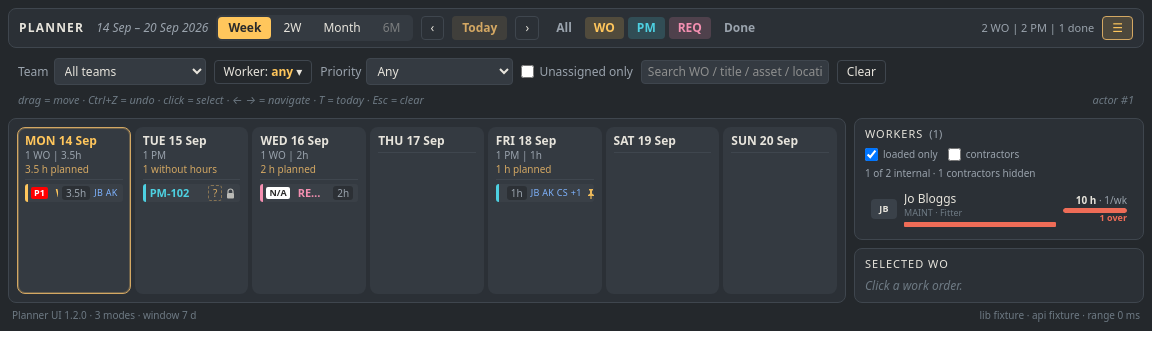
PlannerView - moves (DP3b) › the toast's Undo posts /undo with the undo dict and says Undone
Press the mouse on the element with class "chip" showing "P1 WO-101 3.5h JB AK": coordinates (74, 193) [25,184,123,202]
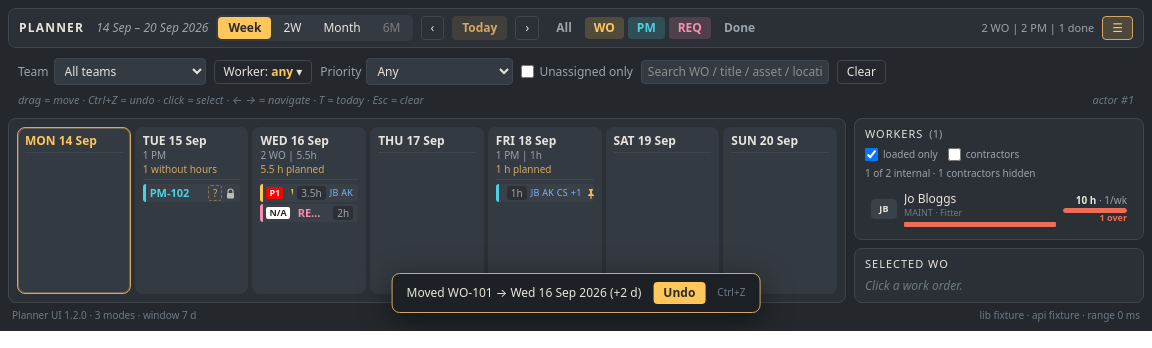
Click the button "Undo": coordinates (679, 293) [653,282,705,304]
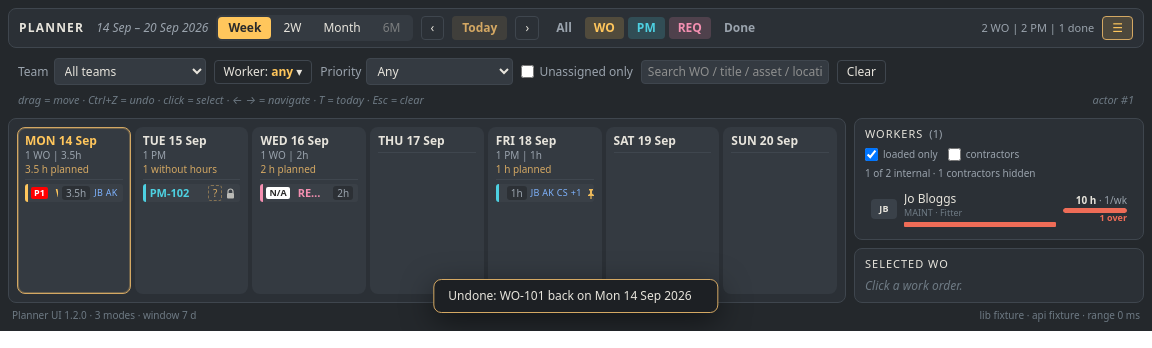
expect the text with class "msg" reads "Undone: WO-101 back on Mon 14 Sep 2026": met, box [448,286,692,304]
